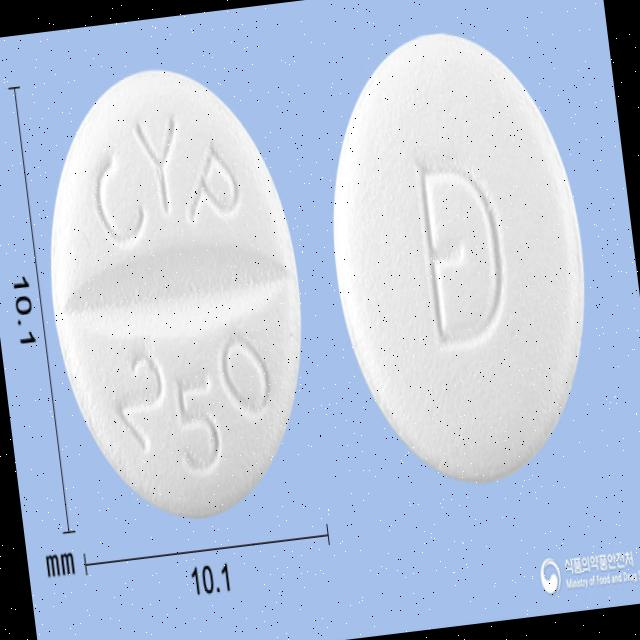Bearcin - 500mg: (23, 52, 331, 538), (306, 16, 612, 500)
